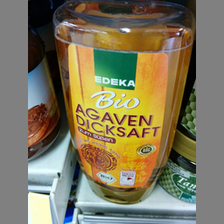honey: (51, 1, 194, 203)
